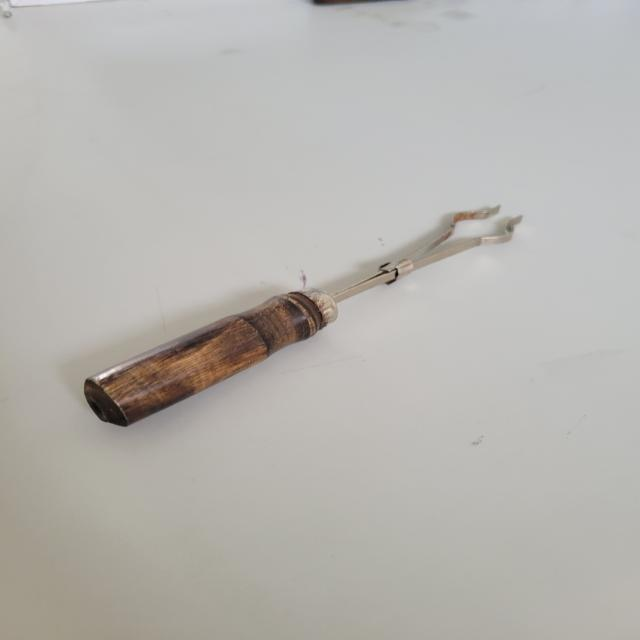TestTube_Holder: (56, 156, 556, 452)
